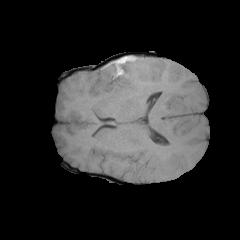glioma: (93, 56, 155, 94)
